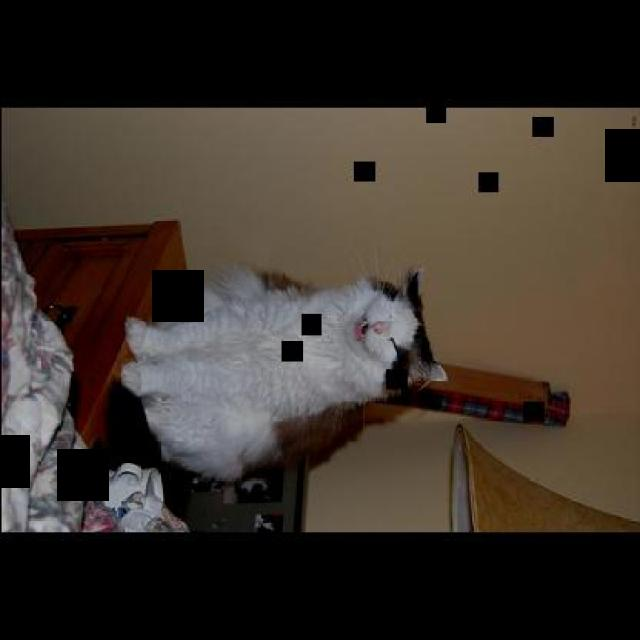unauthorized: (117, 263, 448, 482)
